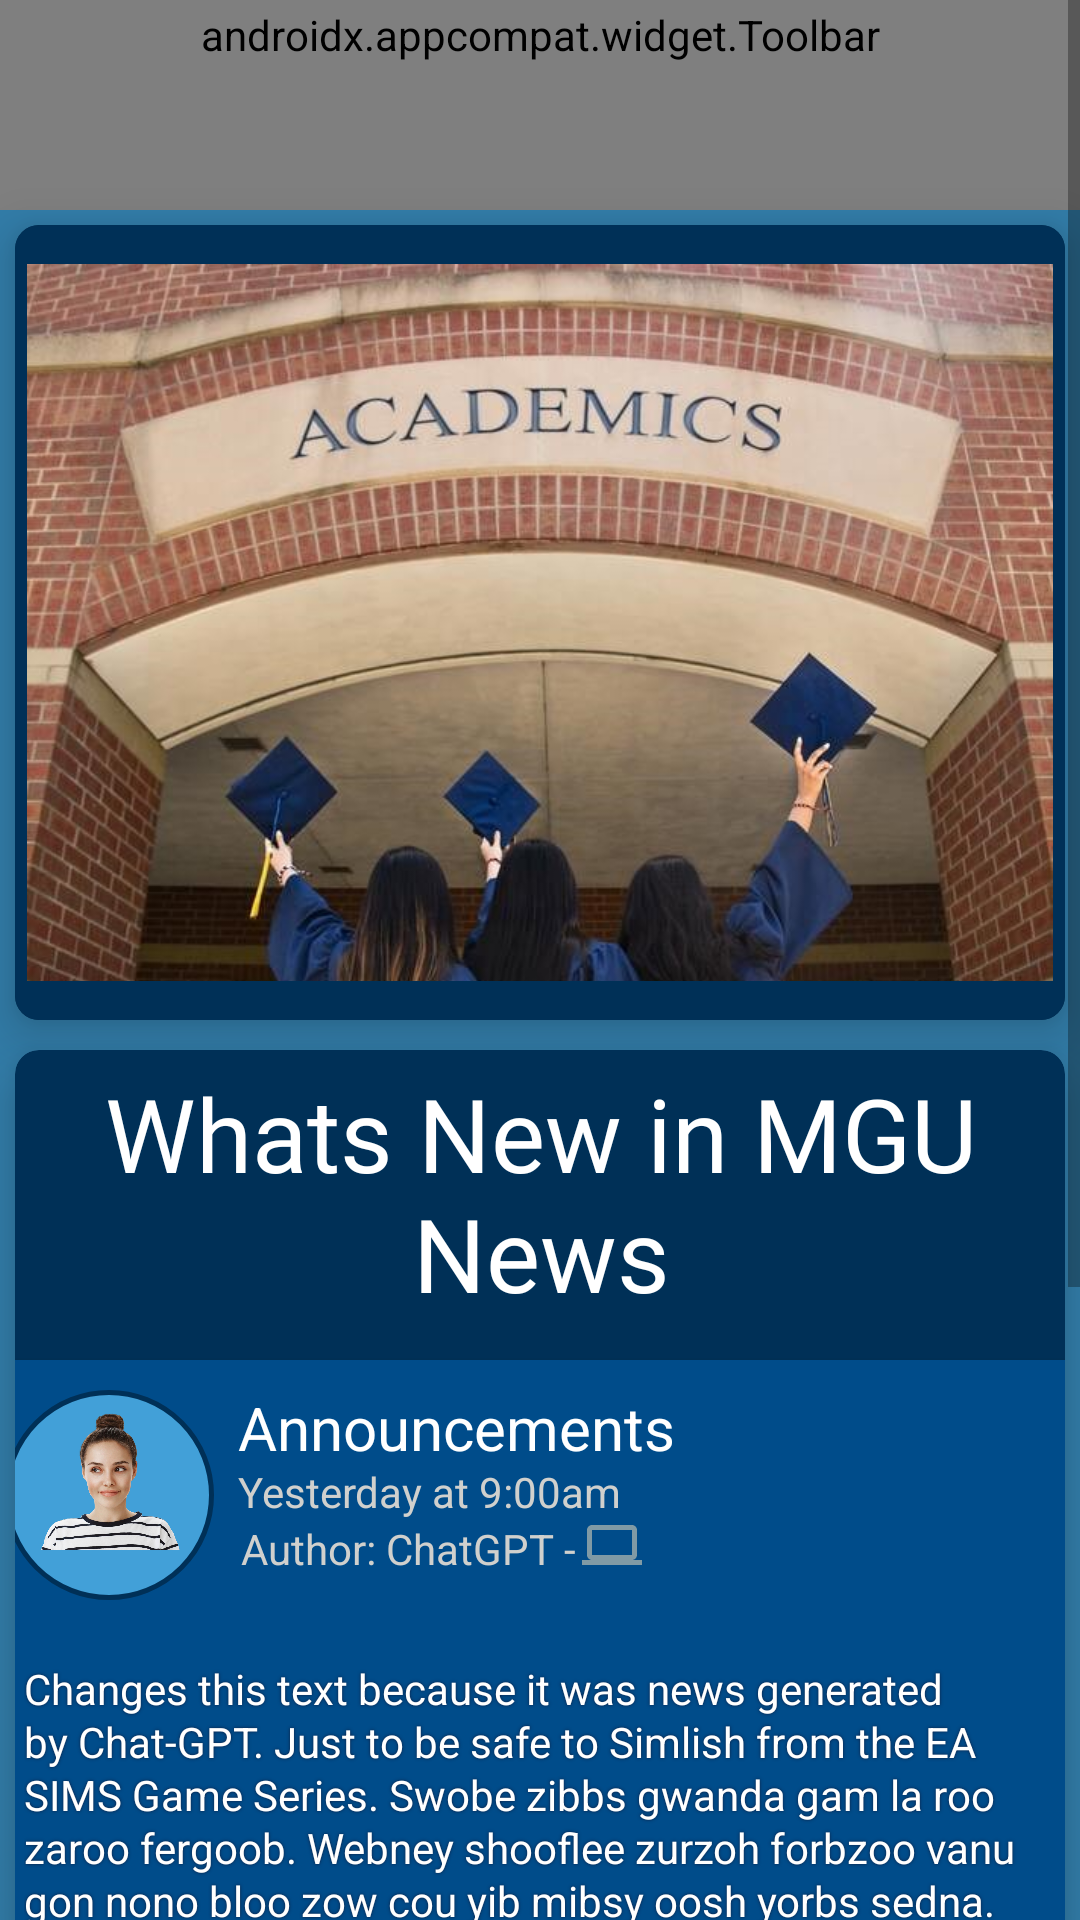

Where icons sit on this 1080x1920 app screen, as [x1, y1, x2, y2]:
computer: [582, 1525, 642, 1565]
